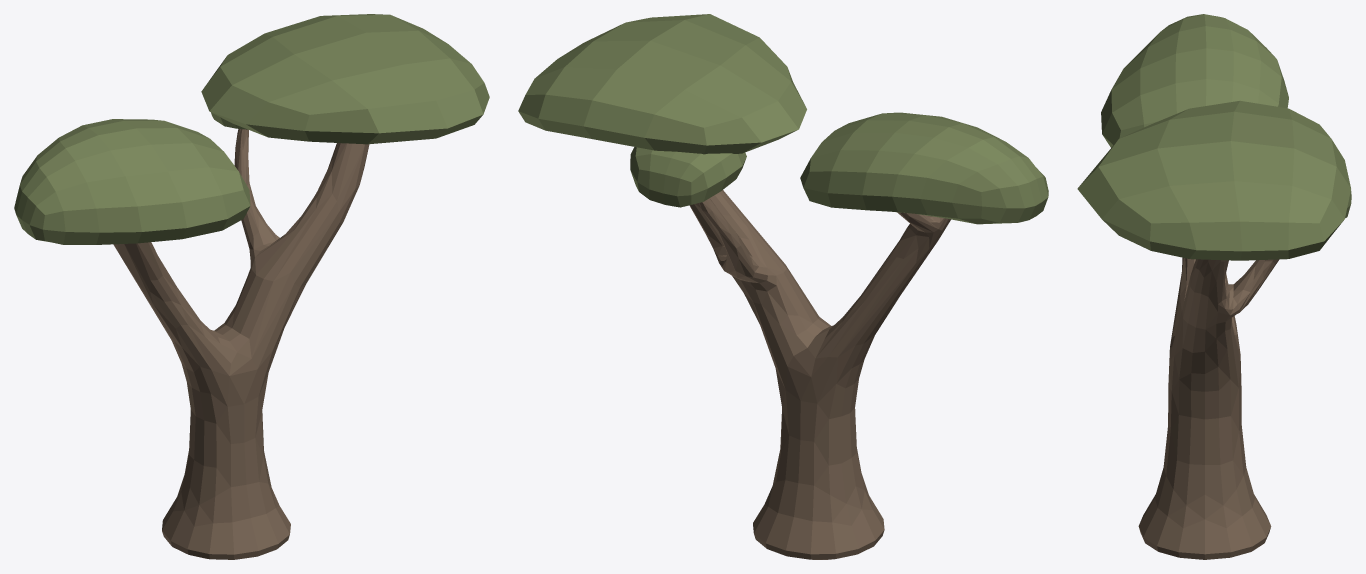
Rendered from tree-14.fbx.
3 views of the same model, side by side, from view 1: azimuth 30°, elevation 25°; view 2: azimuth 150°, elevation 25°; view 3: azimuth 270°, elevation 25° (orthographic). The views are drawn at different scales.
Parts seen in each view (by area): view 1: Cube.041, Cube.057, Cube.056; view 2: Cube.041, Cube.057, Cube.056, Cube.058; view 3: Cube.057, Cube.041, Cube.056.
Part boxes in pixels (x1=…): Cube.041: x1=113, y1=129, x2=369, y2=559; Cube.057: x1=201, y1=14, x2=489, y2=144; Cube.056: x1=14, y1=119, x2=250, y2=244; Cube.041: x1=689, y1=190, x2=950, y2=559; Cube.057: x1=518, y1=14, x2=806, y2=154; Cube.056: x1=800, y1=112, x2=1048, y2=224; Cube.058: x1=630, y1=147, x2=746, y2=207; Cube.057: x1=1077, y1=100, x2=1350, y2=260; Cube.041: x1=1138, y1=258, x2=1279, y2=559; Cube.056: x1=1101, y1=14, x2=1288, y2=147.
Bounding box in the file's own units: 1930 × 1843 × 964.
